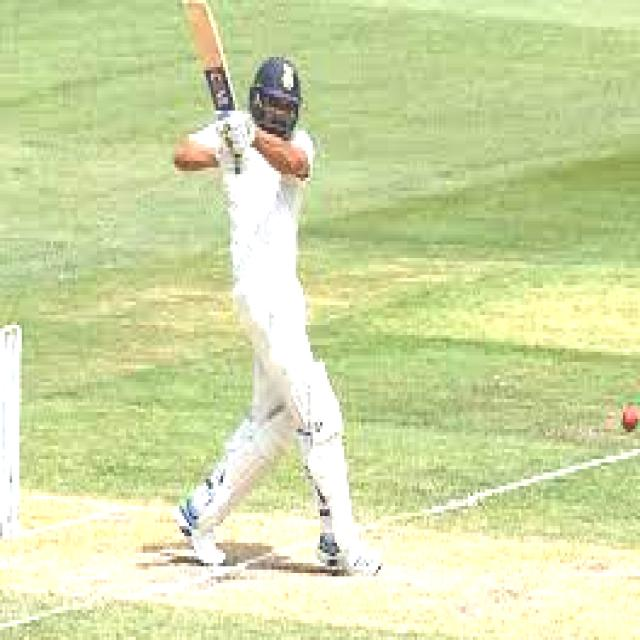toe: (179, 0, 213, 20)
